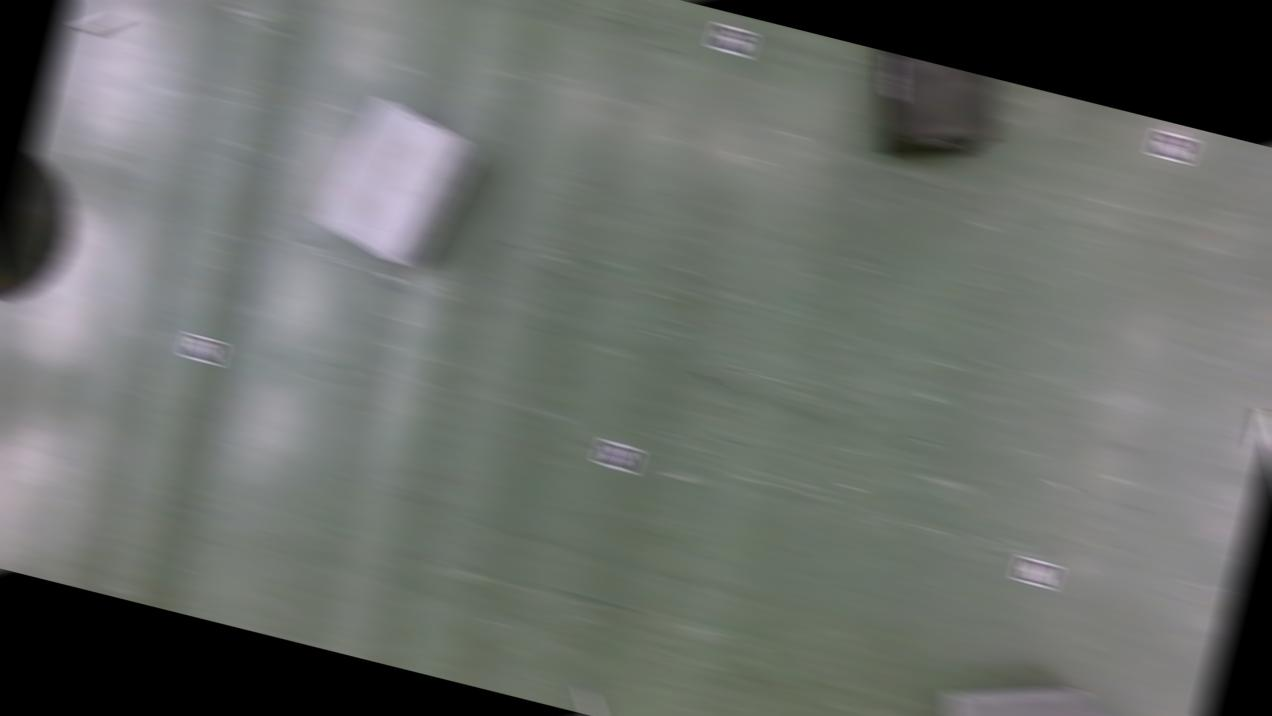probes: (72, 3, 131, 44), (571, 682, 616, 716), (1247, 409, 1272, 458)
rako: (306, 85, 491, 278), (848, 48, 1014, 181), (917, 652, 1145, 716)
